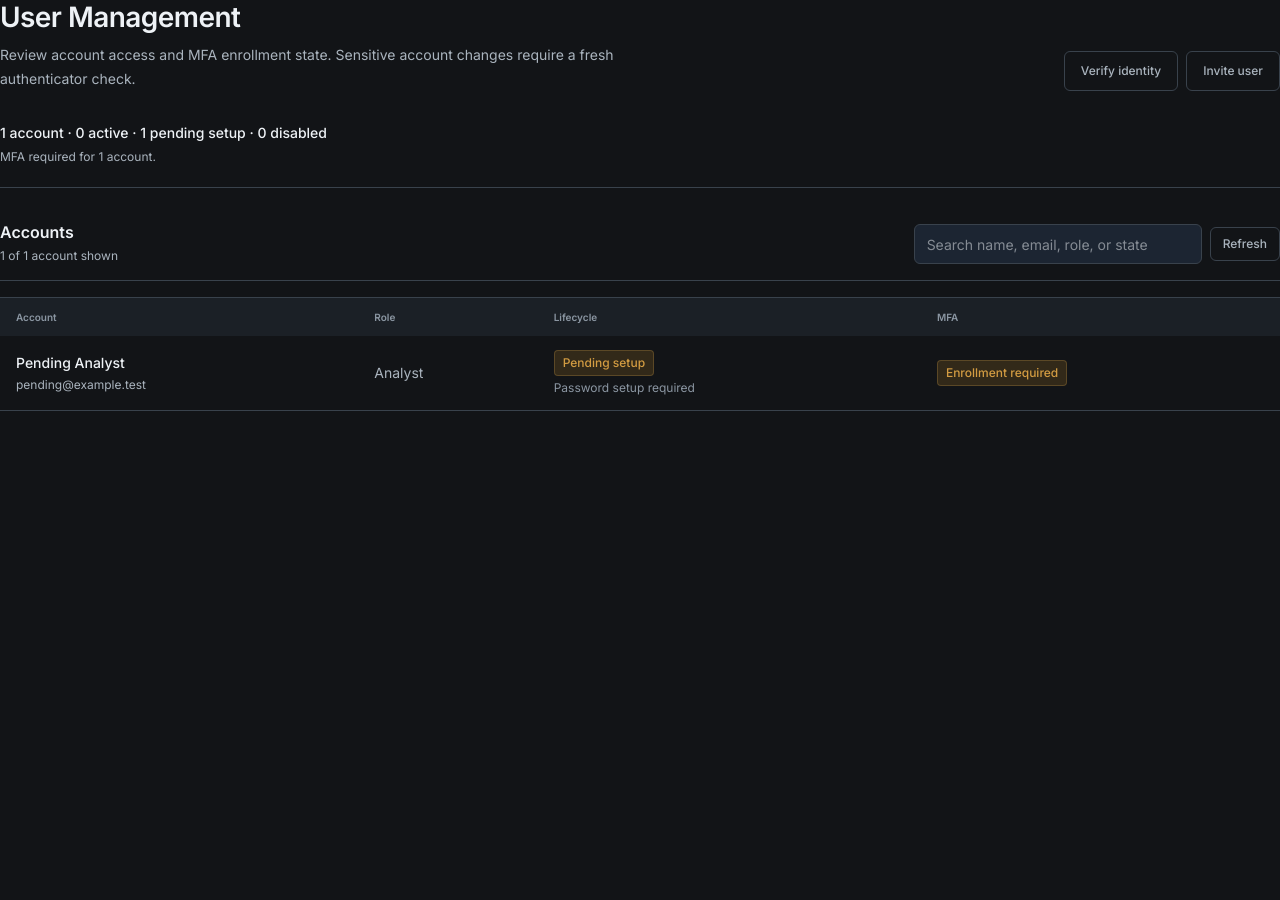
UserManagementWorkspace › shows setup resend only when the account is still waiting to set a password
The image size is (1280, 900).
Click the button with aria-label "Open account details for Pending Analyst".
click(70, 363)  # box [16,353,125,373]
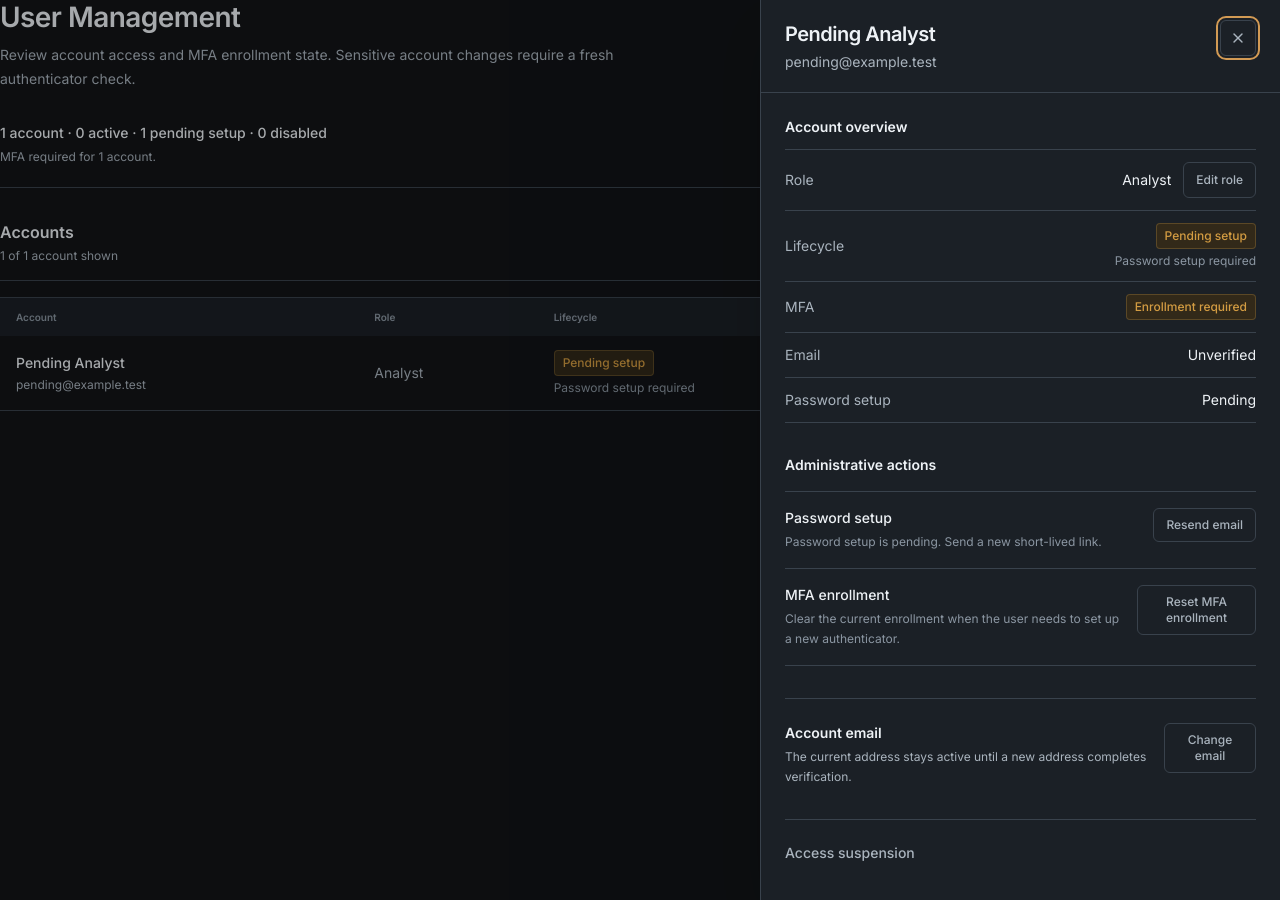
Expected: the button with aria-label "Resend setup for Pending Analyst" is shown, [1153,508,1256,542]
Expected: the text "Password setup is pending. Send a new short-lived link." is shown, [785,532,1102,552]
